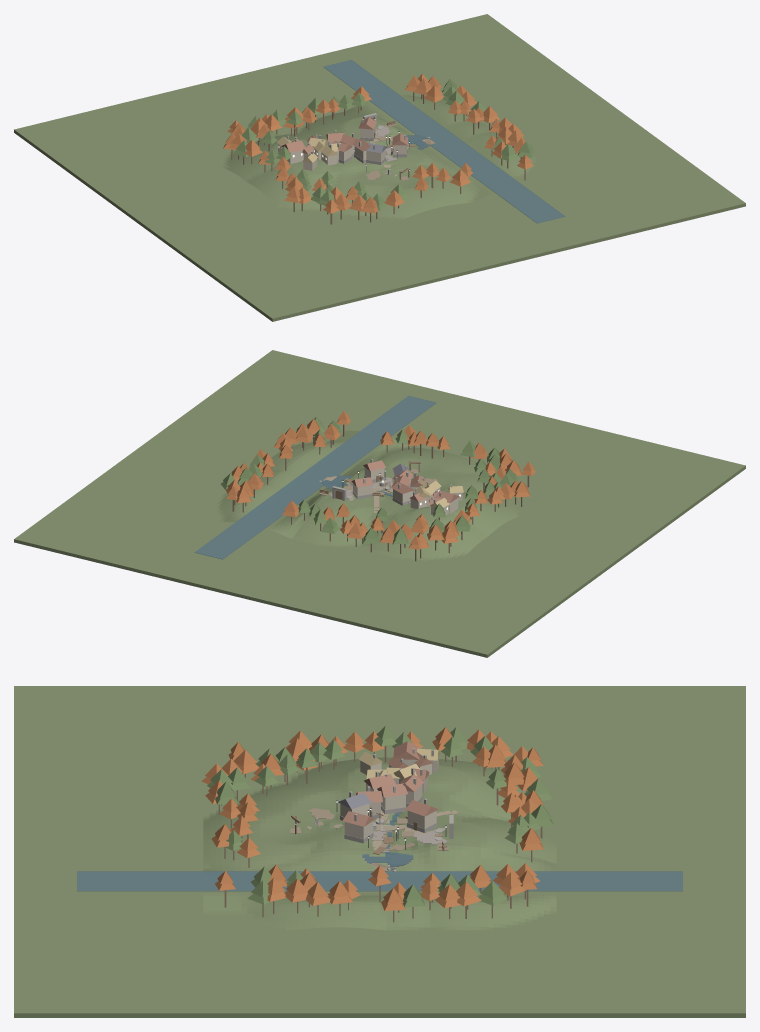
3 renders of one model, top to bottom at view 1: azimuth 30°, elevation 25°; view 2: azimuth 150°, elevation 25°; view 3: azimuth 270°, elevation 25°, orthographic. The views are drawn at different scales.
Parts seen in each view (by area): view 1: emb_ground_far, emb_ground_valley, water_emb_river; view 2: emb_ground_far, emb_ground_valley, water_emb_river; view 3: emb_ground_far, emb_ground_valley, water_emb_river.
Boxes of the visible parts, box(x1,y1,x2,y2) form: emb_ground_far: box(14, 14, 745, 321); emb_ground_valley: box(197, 89, 564, 238); water_emb_river: box(323, 60, 564, 223); emb_ground_far: box(14, 350, 745, 657); emb_ground_valley: box(195, 425, 562, 574); water_emb_river: box(195, 396, 436, 559); emb_ground_far: box(14, 686, 745, 1017); emb_ground_valley: box(203, 757, 556, 930); water_emb_river: box(77, 871, 682, 891).
Size of the model in its own units: 184 by 16.7 by 174.
